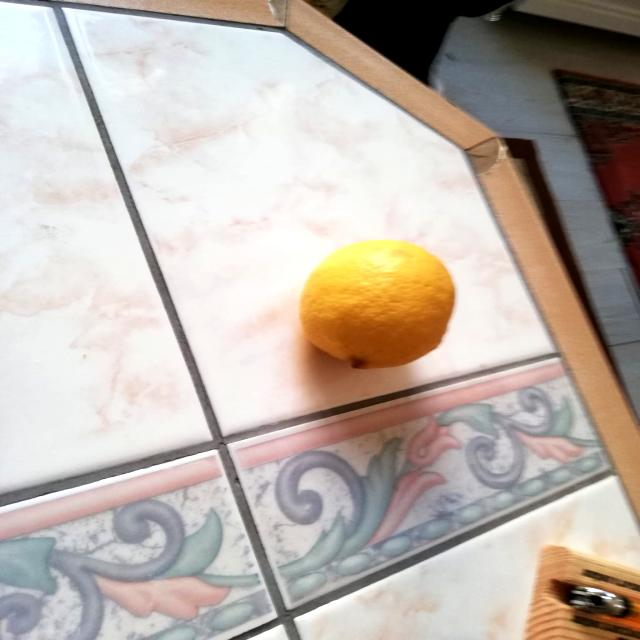lemon: (296, 231, 464, 374)
